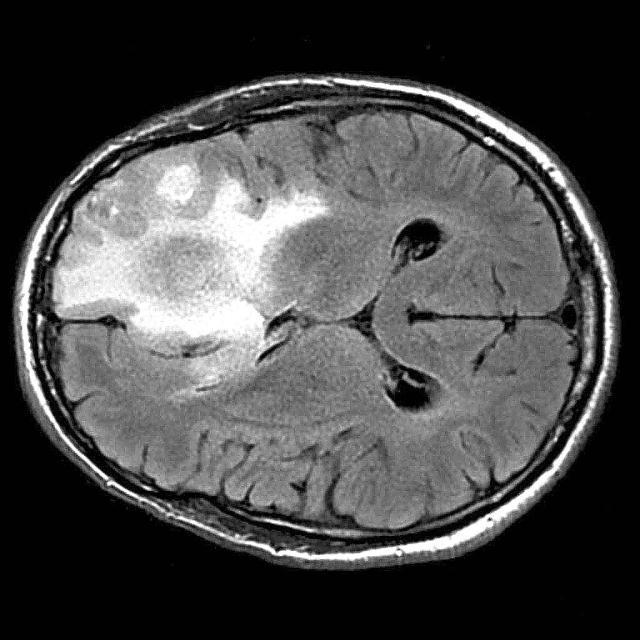tumor: (59, 167, 327, 351)
